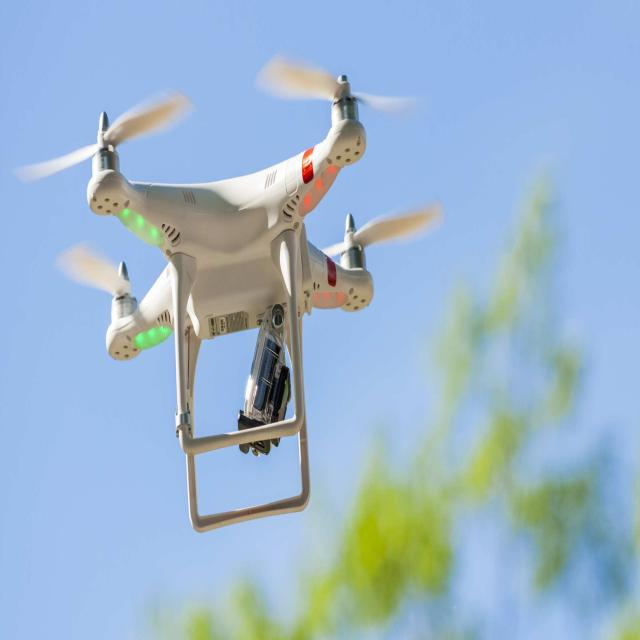drone: (12, 48, 444, 538)
